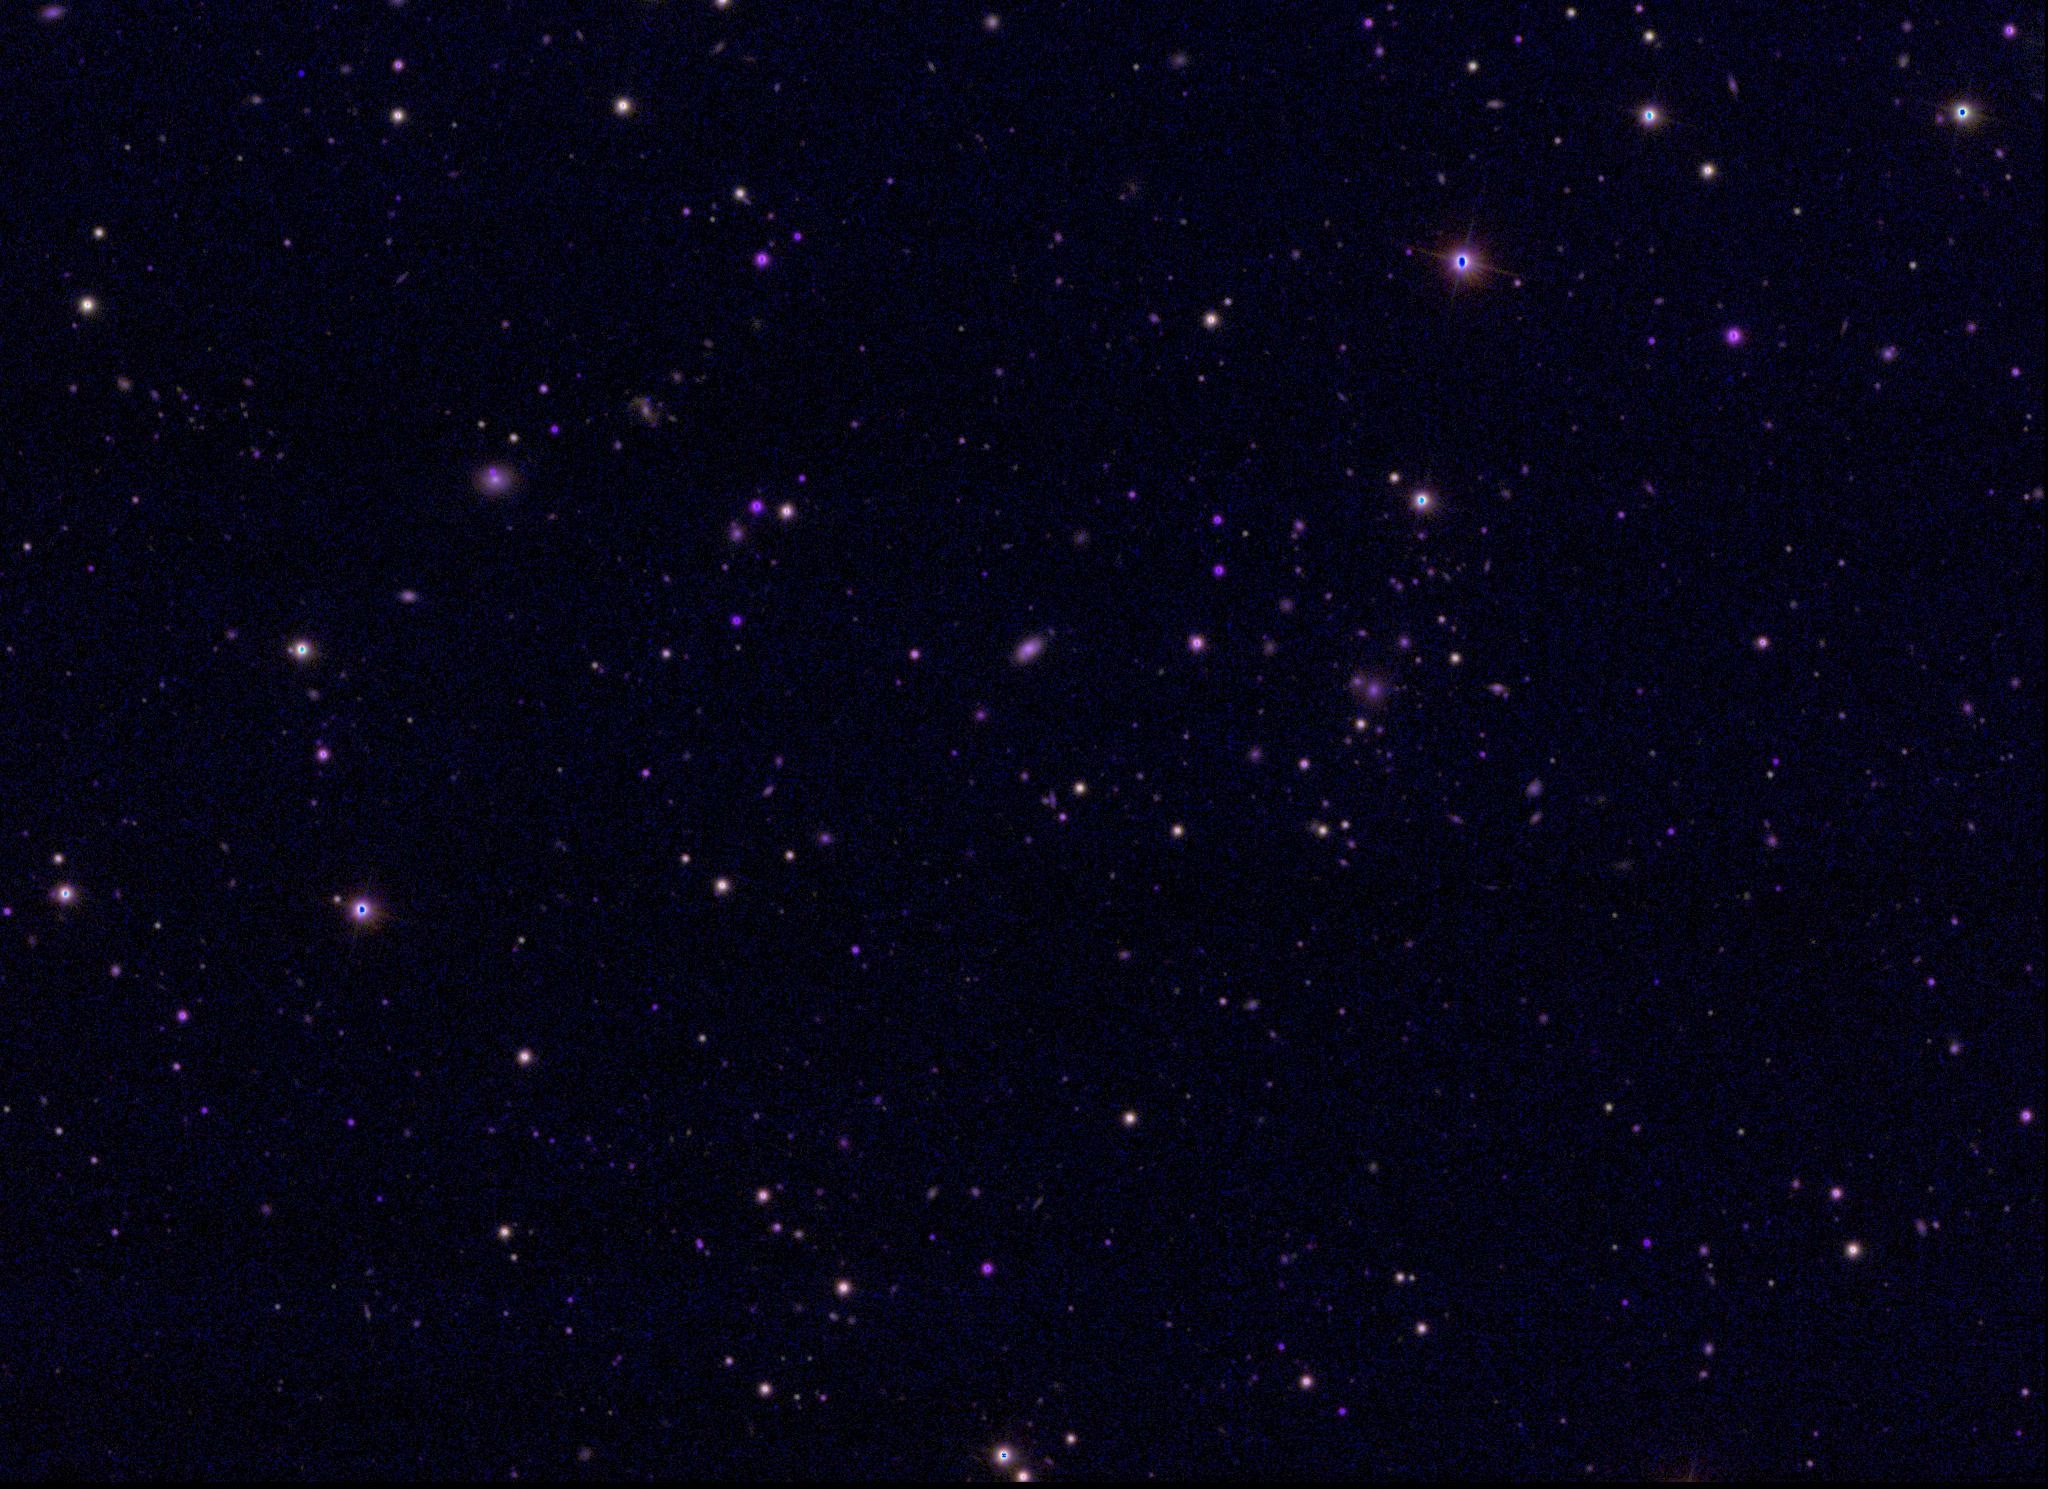L: (293, 68, 307, 83)
